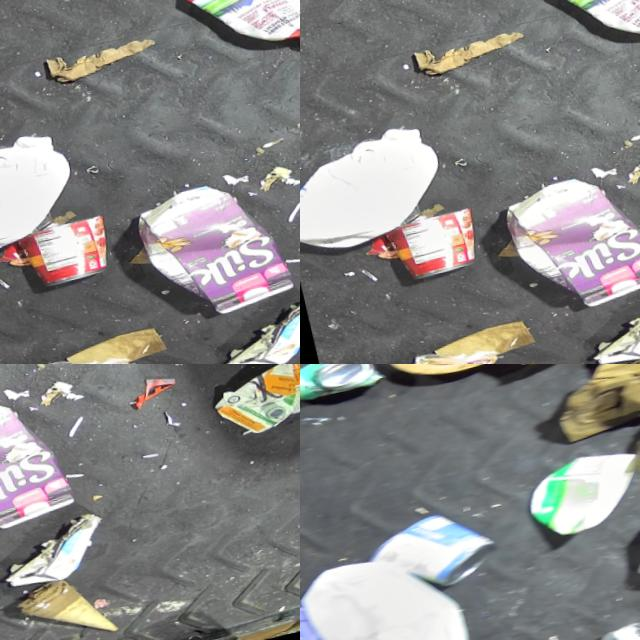can: (300, 538, 477, 640), (354, 502, 505, 608), (10, 206, 123, 299), (379, 207, 482, 287), (300, 364, 388, 409), (403, 337, 503, 364), (619, 513, 640, 594)
milk_jug: (300, 118, 450, 261), (0, 119, 88, 276)
non_white_jug: (492, 166, 640, 325), (544, 0, 640, 70)
